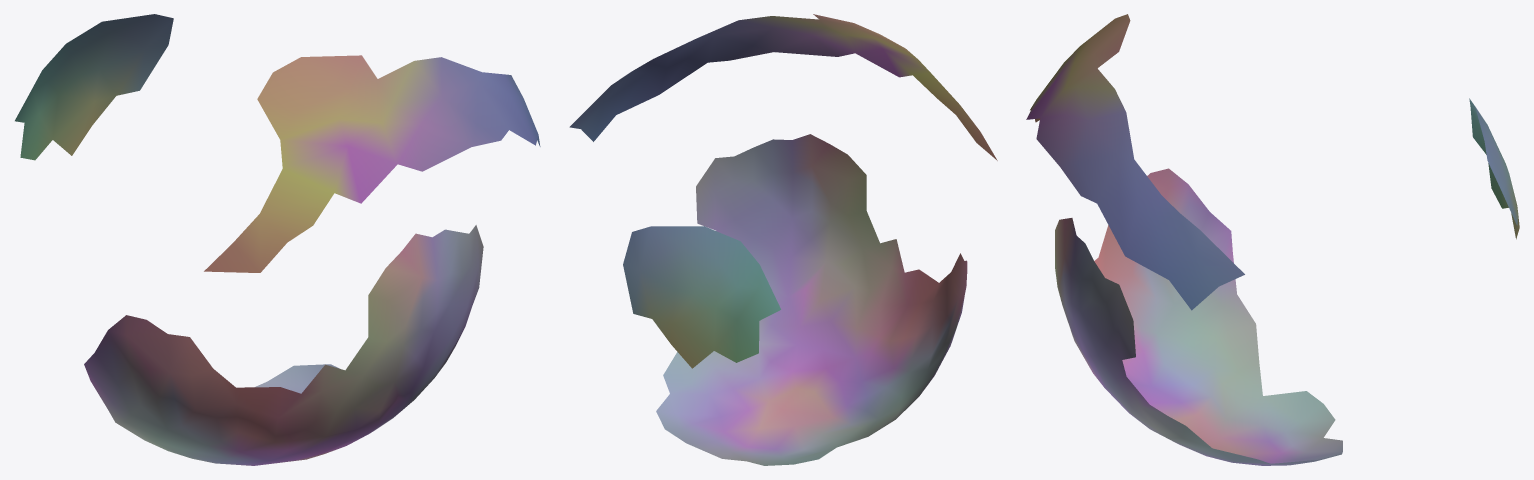
Rendered from space-nebulae-nebula_v27.glb.
The picture shows the model from 3 angles, left to right: view 1: azimuth 30°, elevation 25°; view 2: azimuth 150°, elevation 25°; view 3: azimuth 270°, elevation 25°; orthographic projection. The views are drawn at different scales.
Visible parts, largest first — view 1: Nebula_v27; view 2: Nebula_v27; view 3: Nebula_v27.
Boxes of the visible parts, left/top/right/bottom form: Nebula_v27: left=15, top=14, right=540, bottom=465; Nebula_v27: left=569, top=14, right=997, bottom=465; Nebula_v27: left=1026, top=14, right=1519, bottom=465.
Size of the model in its own units: 0.4694 by 0.4621 by 0.5.
